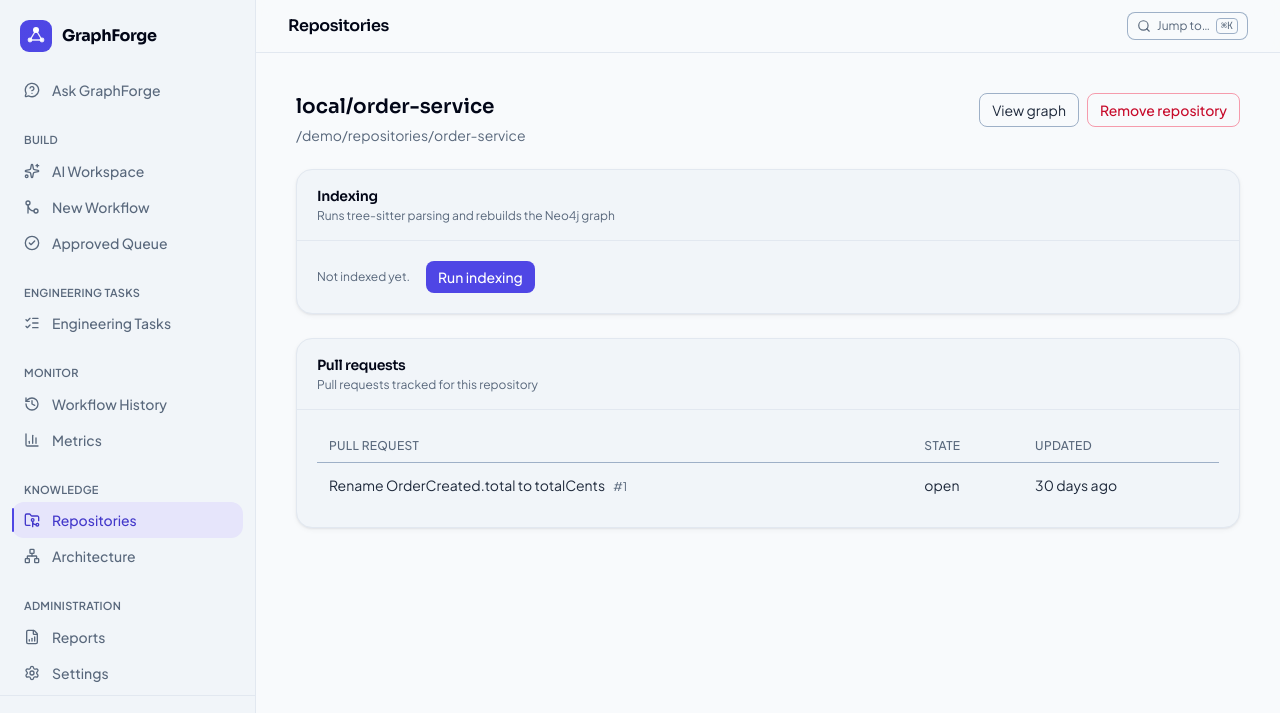
Test case: App navigation (authenticated) › removes the repository and navigates away when the confirm dialog is accepted
Expected: the heading "local/order-service" is shown, [296,93,526,121]
Click the button "Remove repository".
click(1164, 110)  # box [1087,93,1240,127]
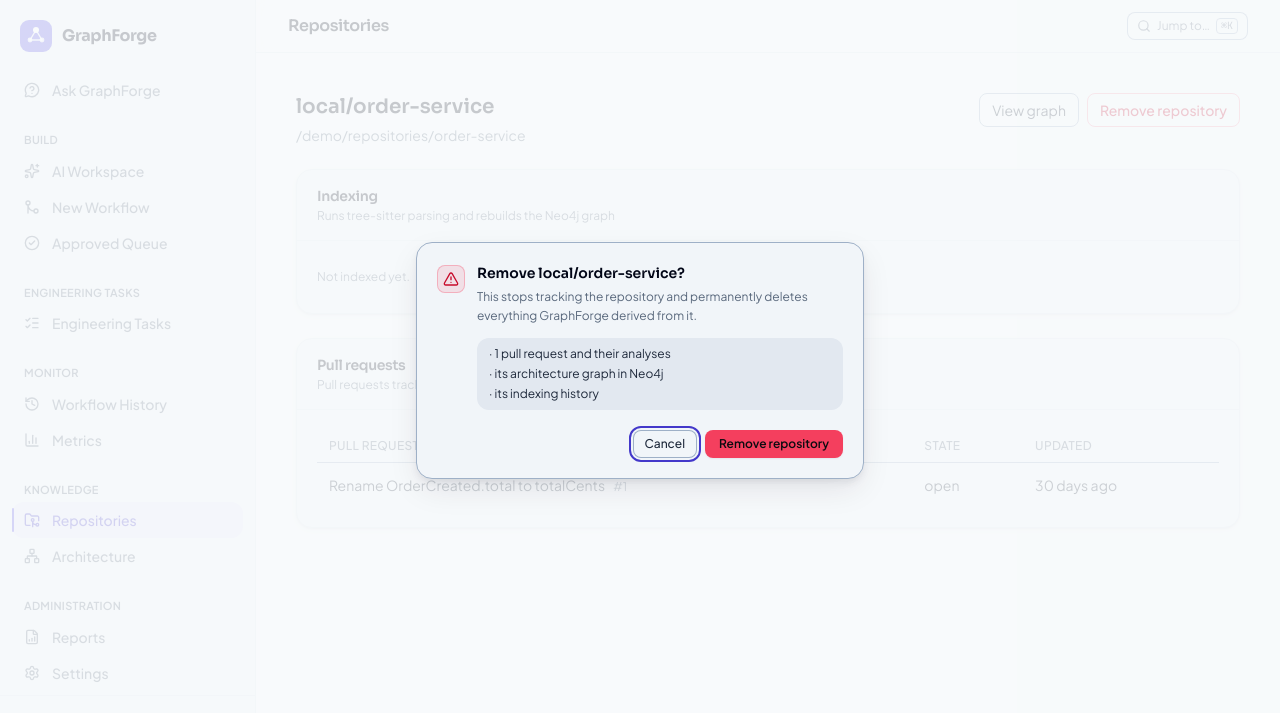
Click the button "Remove repository".
click(774, 444)  # box [705,430,843,458]
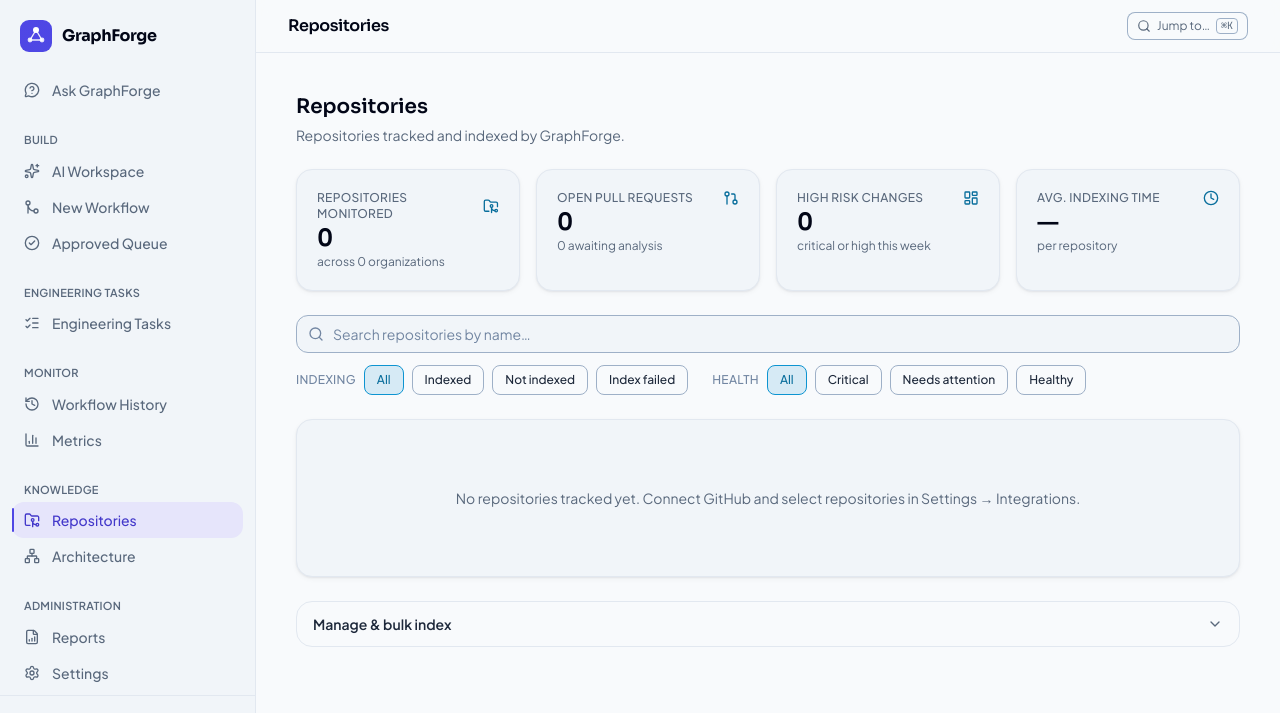
Expected: the heading "Repositories" is shown, [296,94,428,119]
